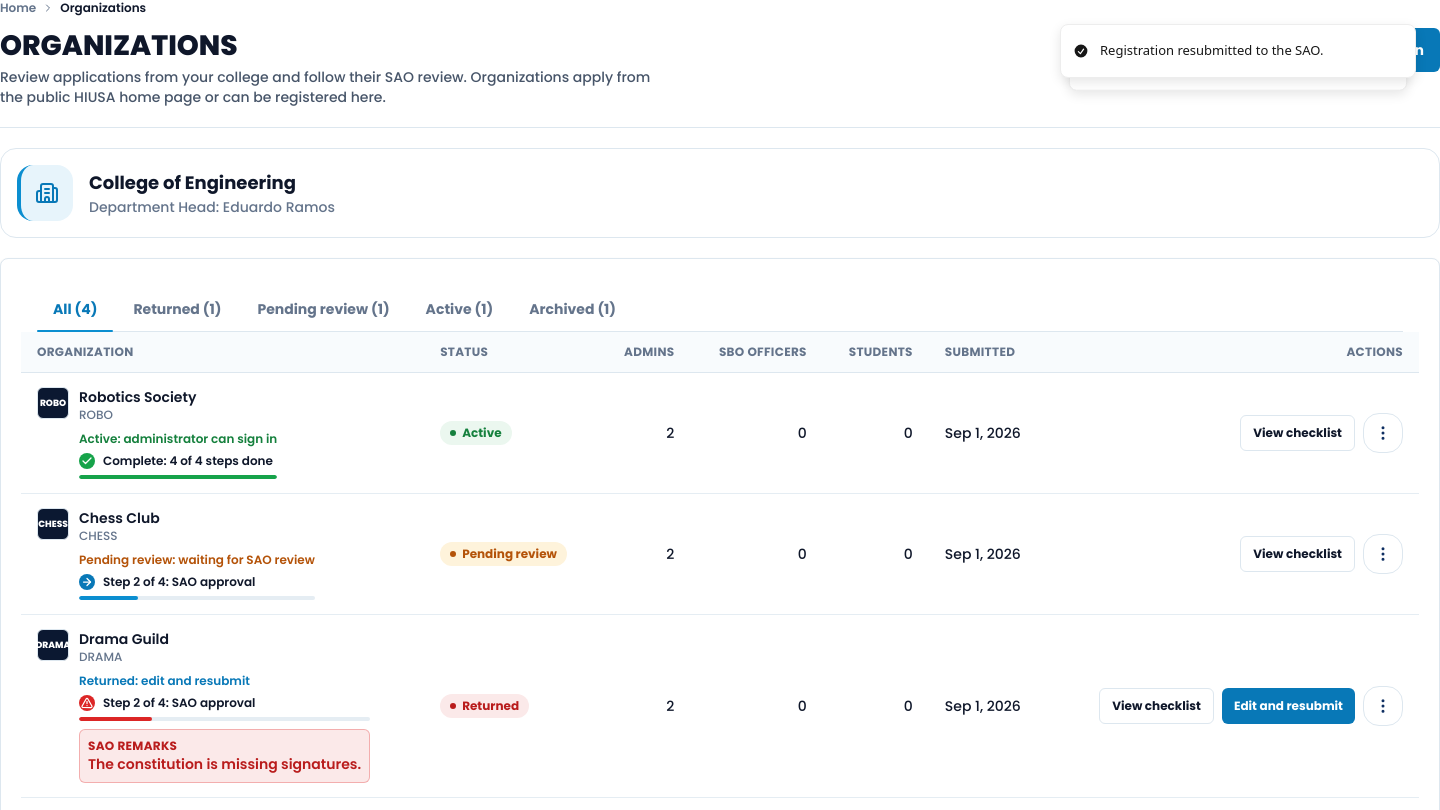
Test: CollegeOrganizationsPage › keeps the checklist content visible while the drawer closes
Click the button named "Actions for Chess Club".
click(1383, 554)  # box [1363,534,1403,574]
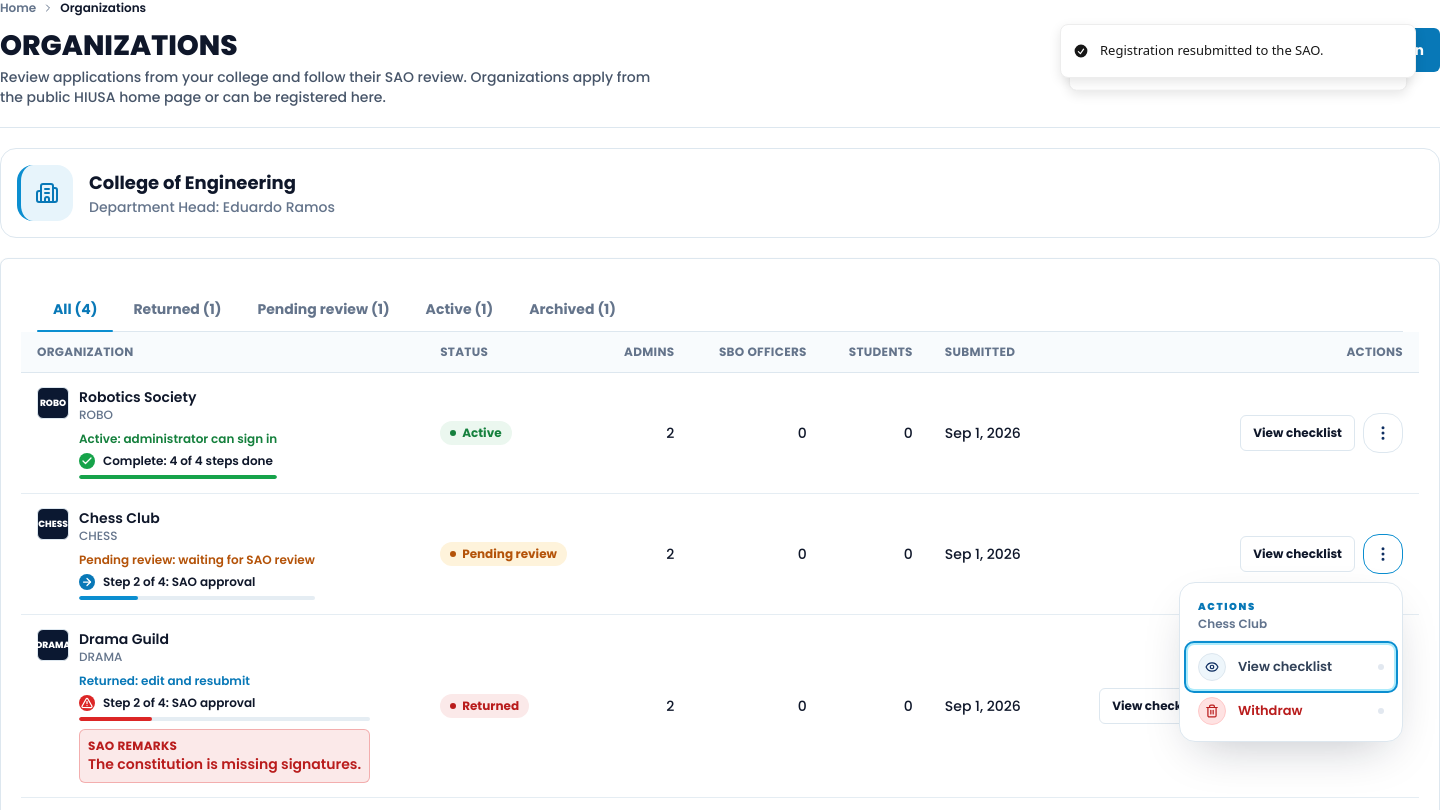
Click the menu item "View checklist".
click(1291, 667)  # box [1188,645,1394,689]
(page scrolled)
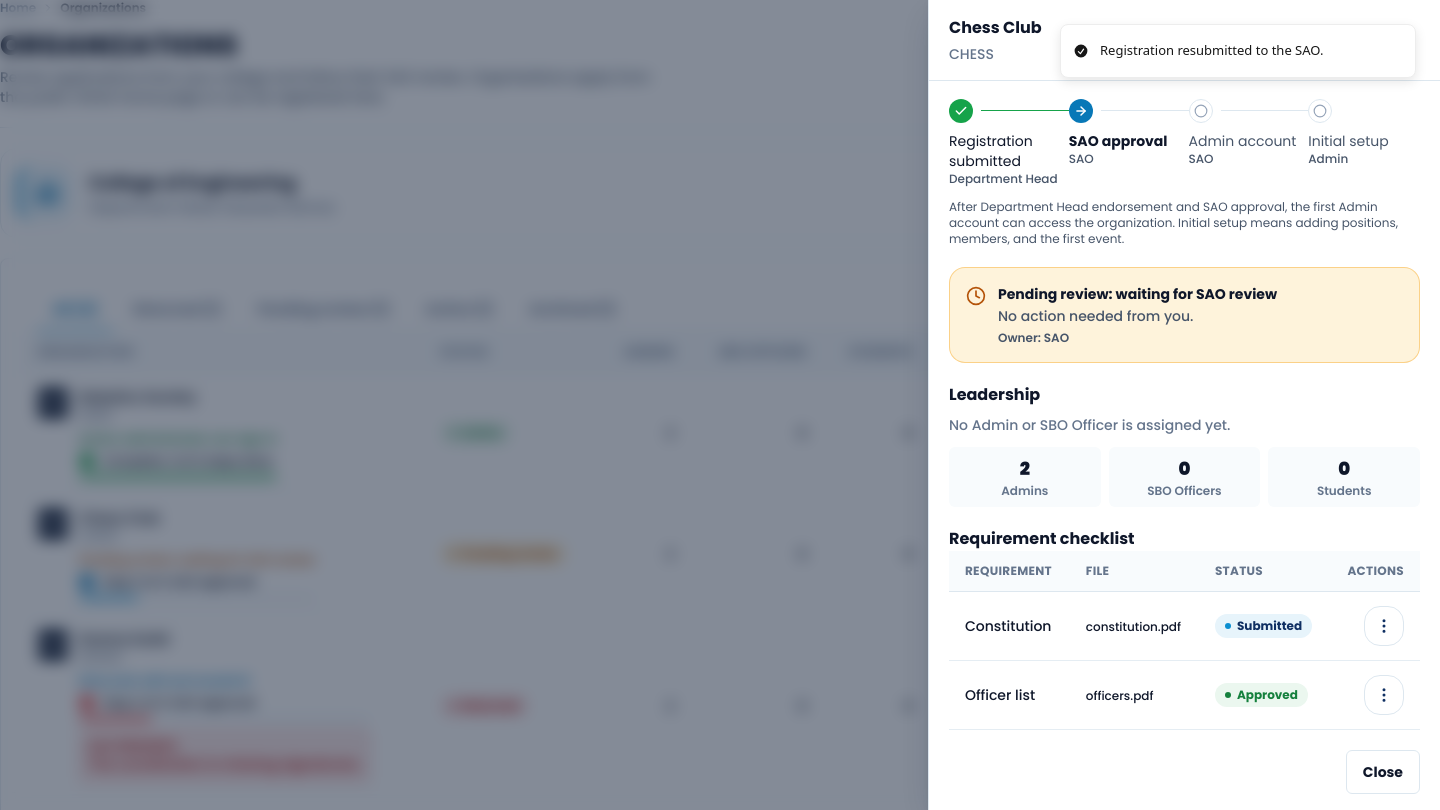
Click the button "Close".
click(1383, 772)  # box [1346,750,1420,794]
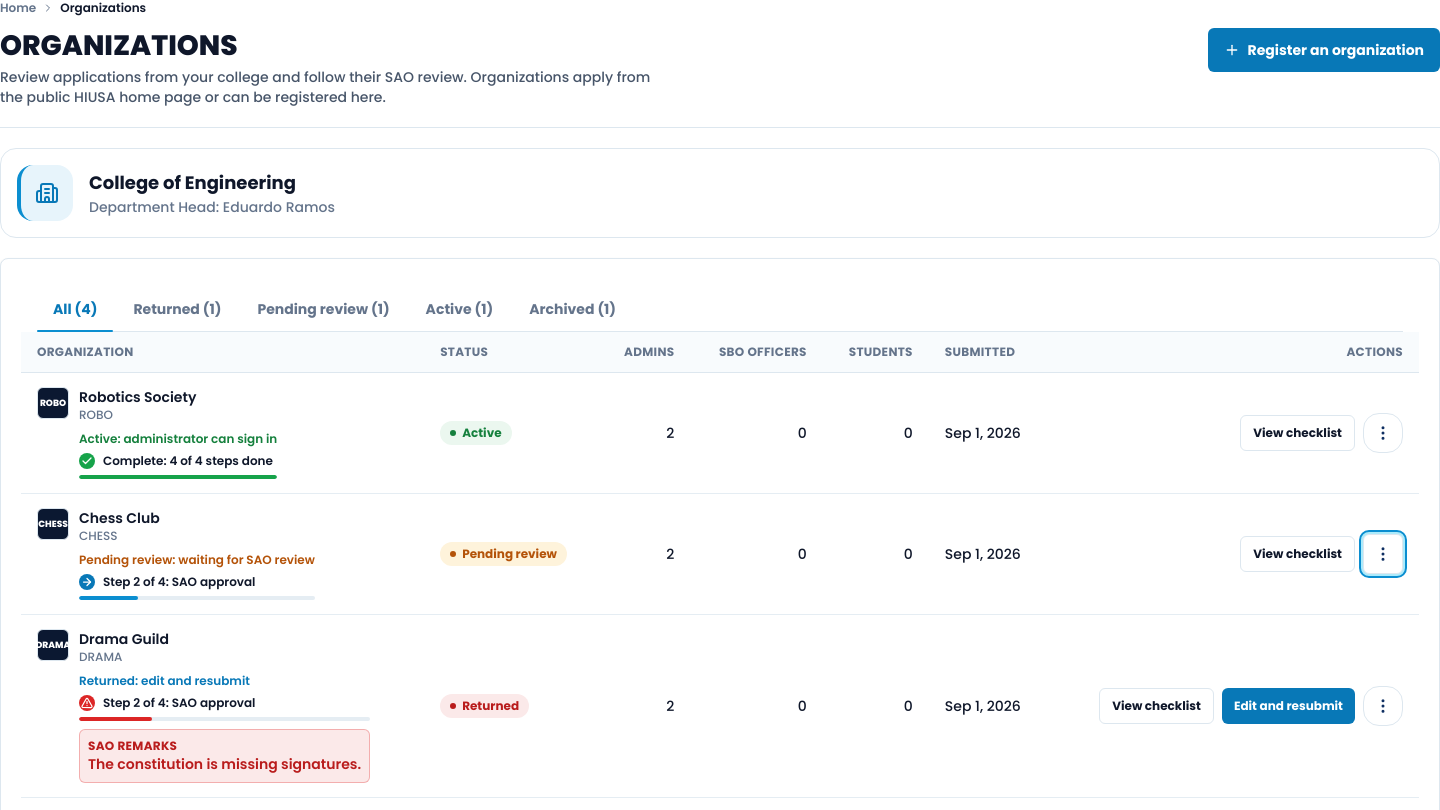
Expected: the dialog is gone
